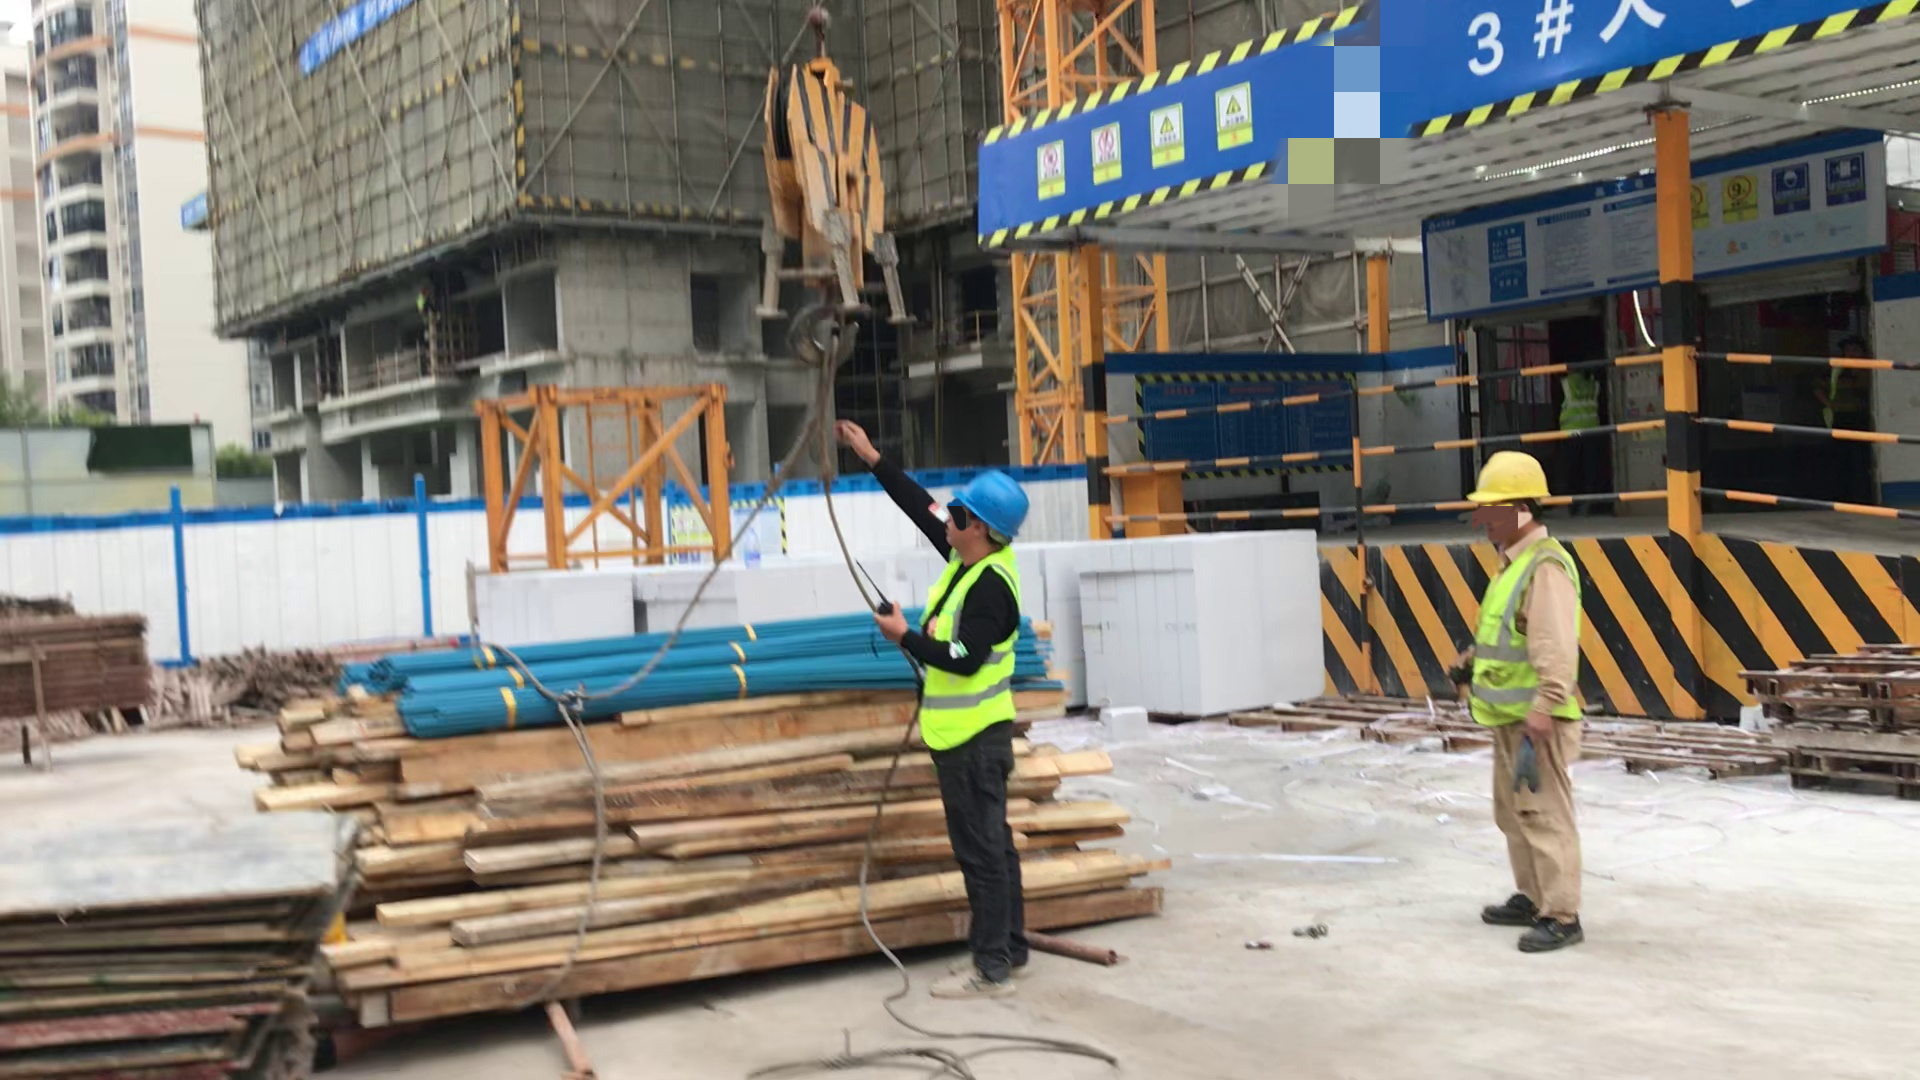board: (2, 814, 337, 1080)
brick: (1048, 531, 1332, 707), (482, 556, 885, 643)
helmet: (949, 469, 1027, 540), (1464, 448, 1552, 506)
hook: (759, 4, 912, 370)
person: (851, 429, 1029, 1004), (1466, 451, 1586, 956)
scaffold: (1, 614, 154, 707)
slogan: (1031, 91, 1252, 203), (1694, 165, 1871, 243), (293, 1, 416, 72)
vest: (909, 556, 1021, 750), (1479, 560, 1583, 741)
wood: (251, 681, 1173, 1016)
